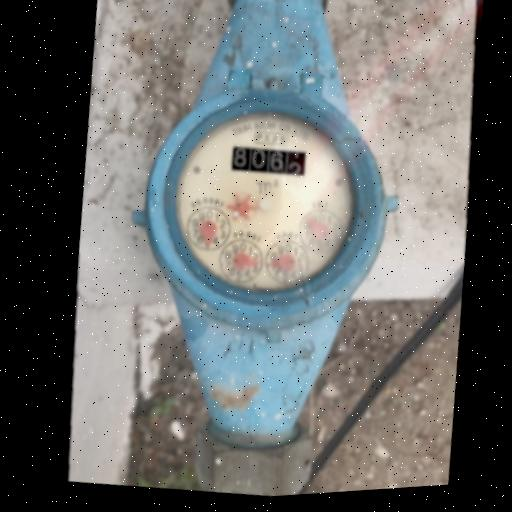0: (249, 147, 271, 174)
1: (285, 150, 309, 177)
6: (267, 149, 288, 175)
8: (230, 145, 253, 173)
border_water_meter_number: (229, 141, 309, 182)
